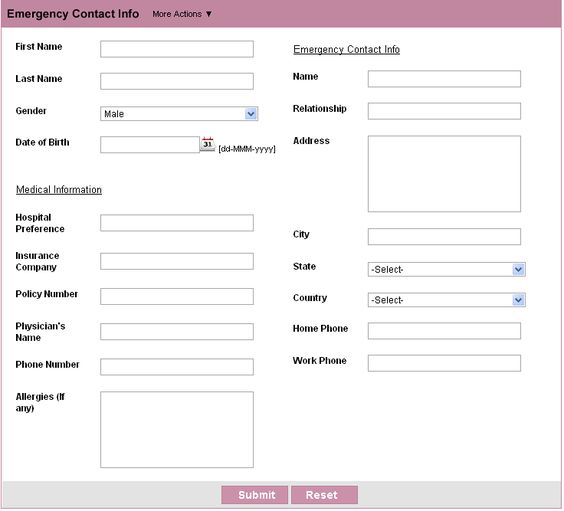_form_: (280, 14, 548, 394), (1, 1, 268, 380)
button: (221, 485, 289, 504), (291, 486, 359, 504)
field: (96, 390, 255, 468), (365, 135, 522, 213), (365, 102, 522, 121), (366, 226, 523, 245), (365, 353, 522, 372), (98, 322, 255, 341), (97, 39, 253, 58), (366, 69, 522, 88), (98, 287, 254, 306), (98, 213, 254, 232), (97, 252, 255, 270), (364, 321, 521, 339), (97, 73, 255, 90), (97, 357, 255, 374), (99, 106, 259, 122), (366, 262, 527, 277), (367, 292, 527, 307), (98, 135, 201, 153)
field_with_label: (15, 389, 258, 470), (290, 134, 524, 215), (16, 250, 256, 273), (292, 351, 525, 374), (293, 224, 525, 247), (15, 212, 257, 234), (14, 321, 256, 343), (291, 101, 524, 123), (14, 286, 257, 307), (15, 356, 258, 377), (14, 70, 256, 91), (15, 38, 256, 59), (290, 68, 524, 89), (291, 320, 522, 341), (16, 105, 262, 124), (292, 291, 528, 309), (295, 260, 528, 278), (15, 133, 203, 155)
